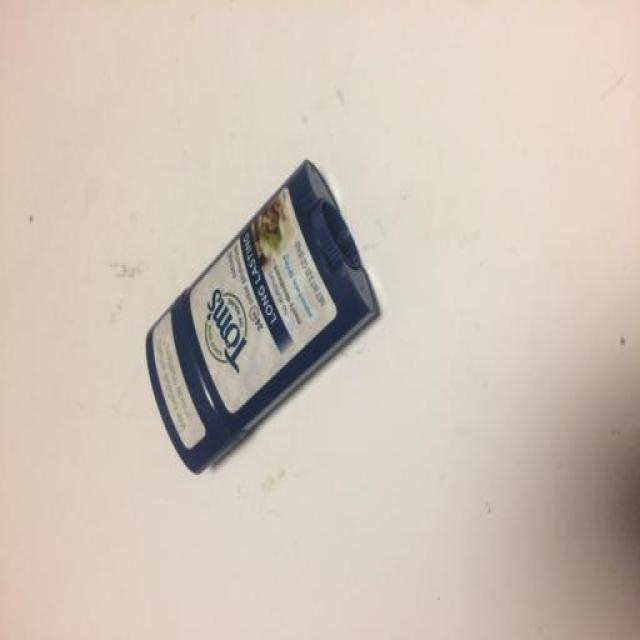inorganic: (144, 160, 385, 478)
